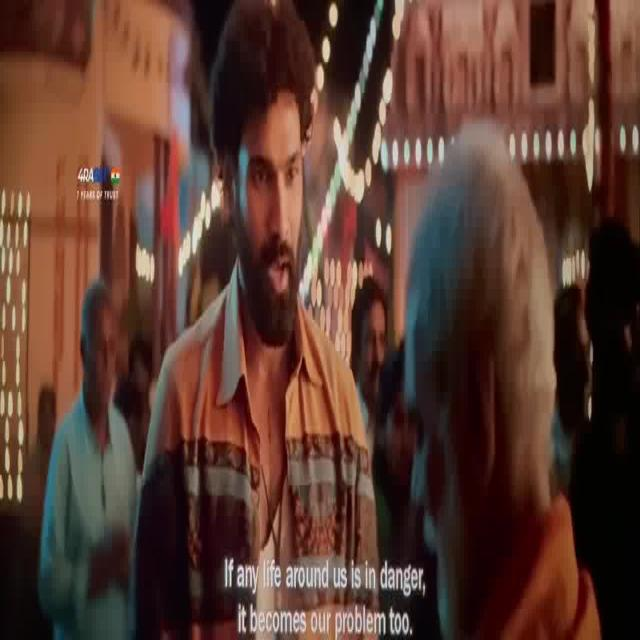4rabet: (72, 157, 128, 214)
